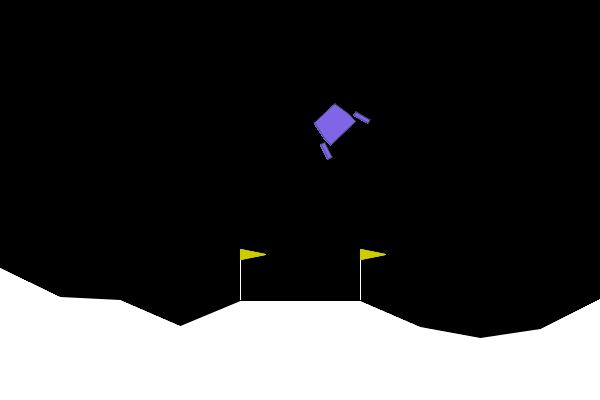lander: (301, 92, 372, 162)
